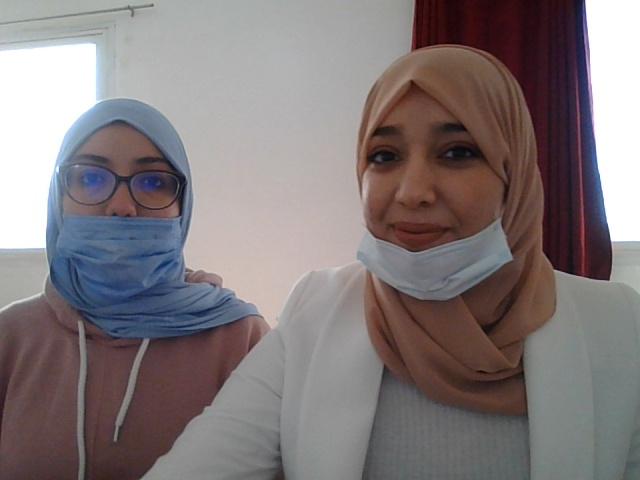mask_weared_incorrect: (346, 61, 531, 293), (45, 99, 210, 289)
